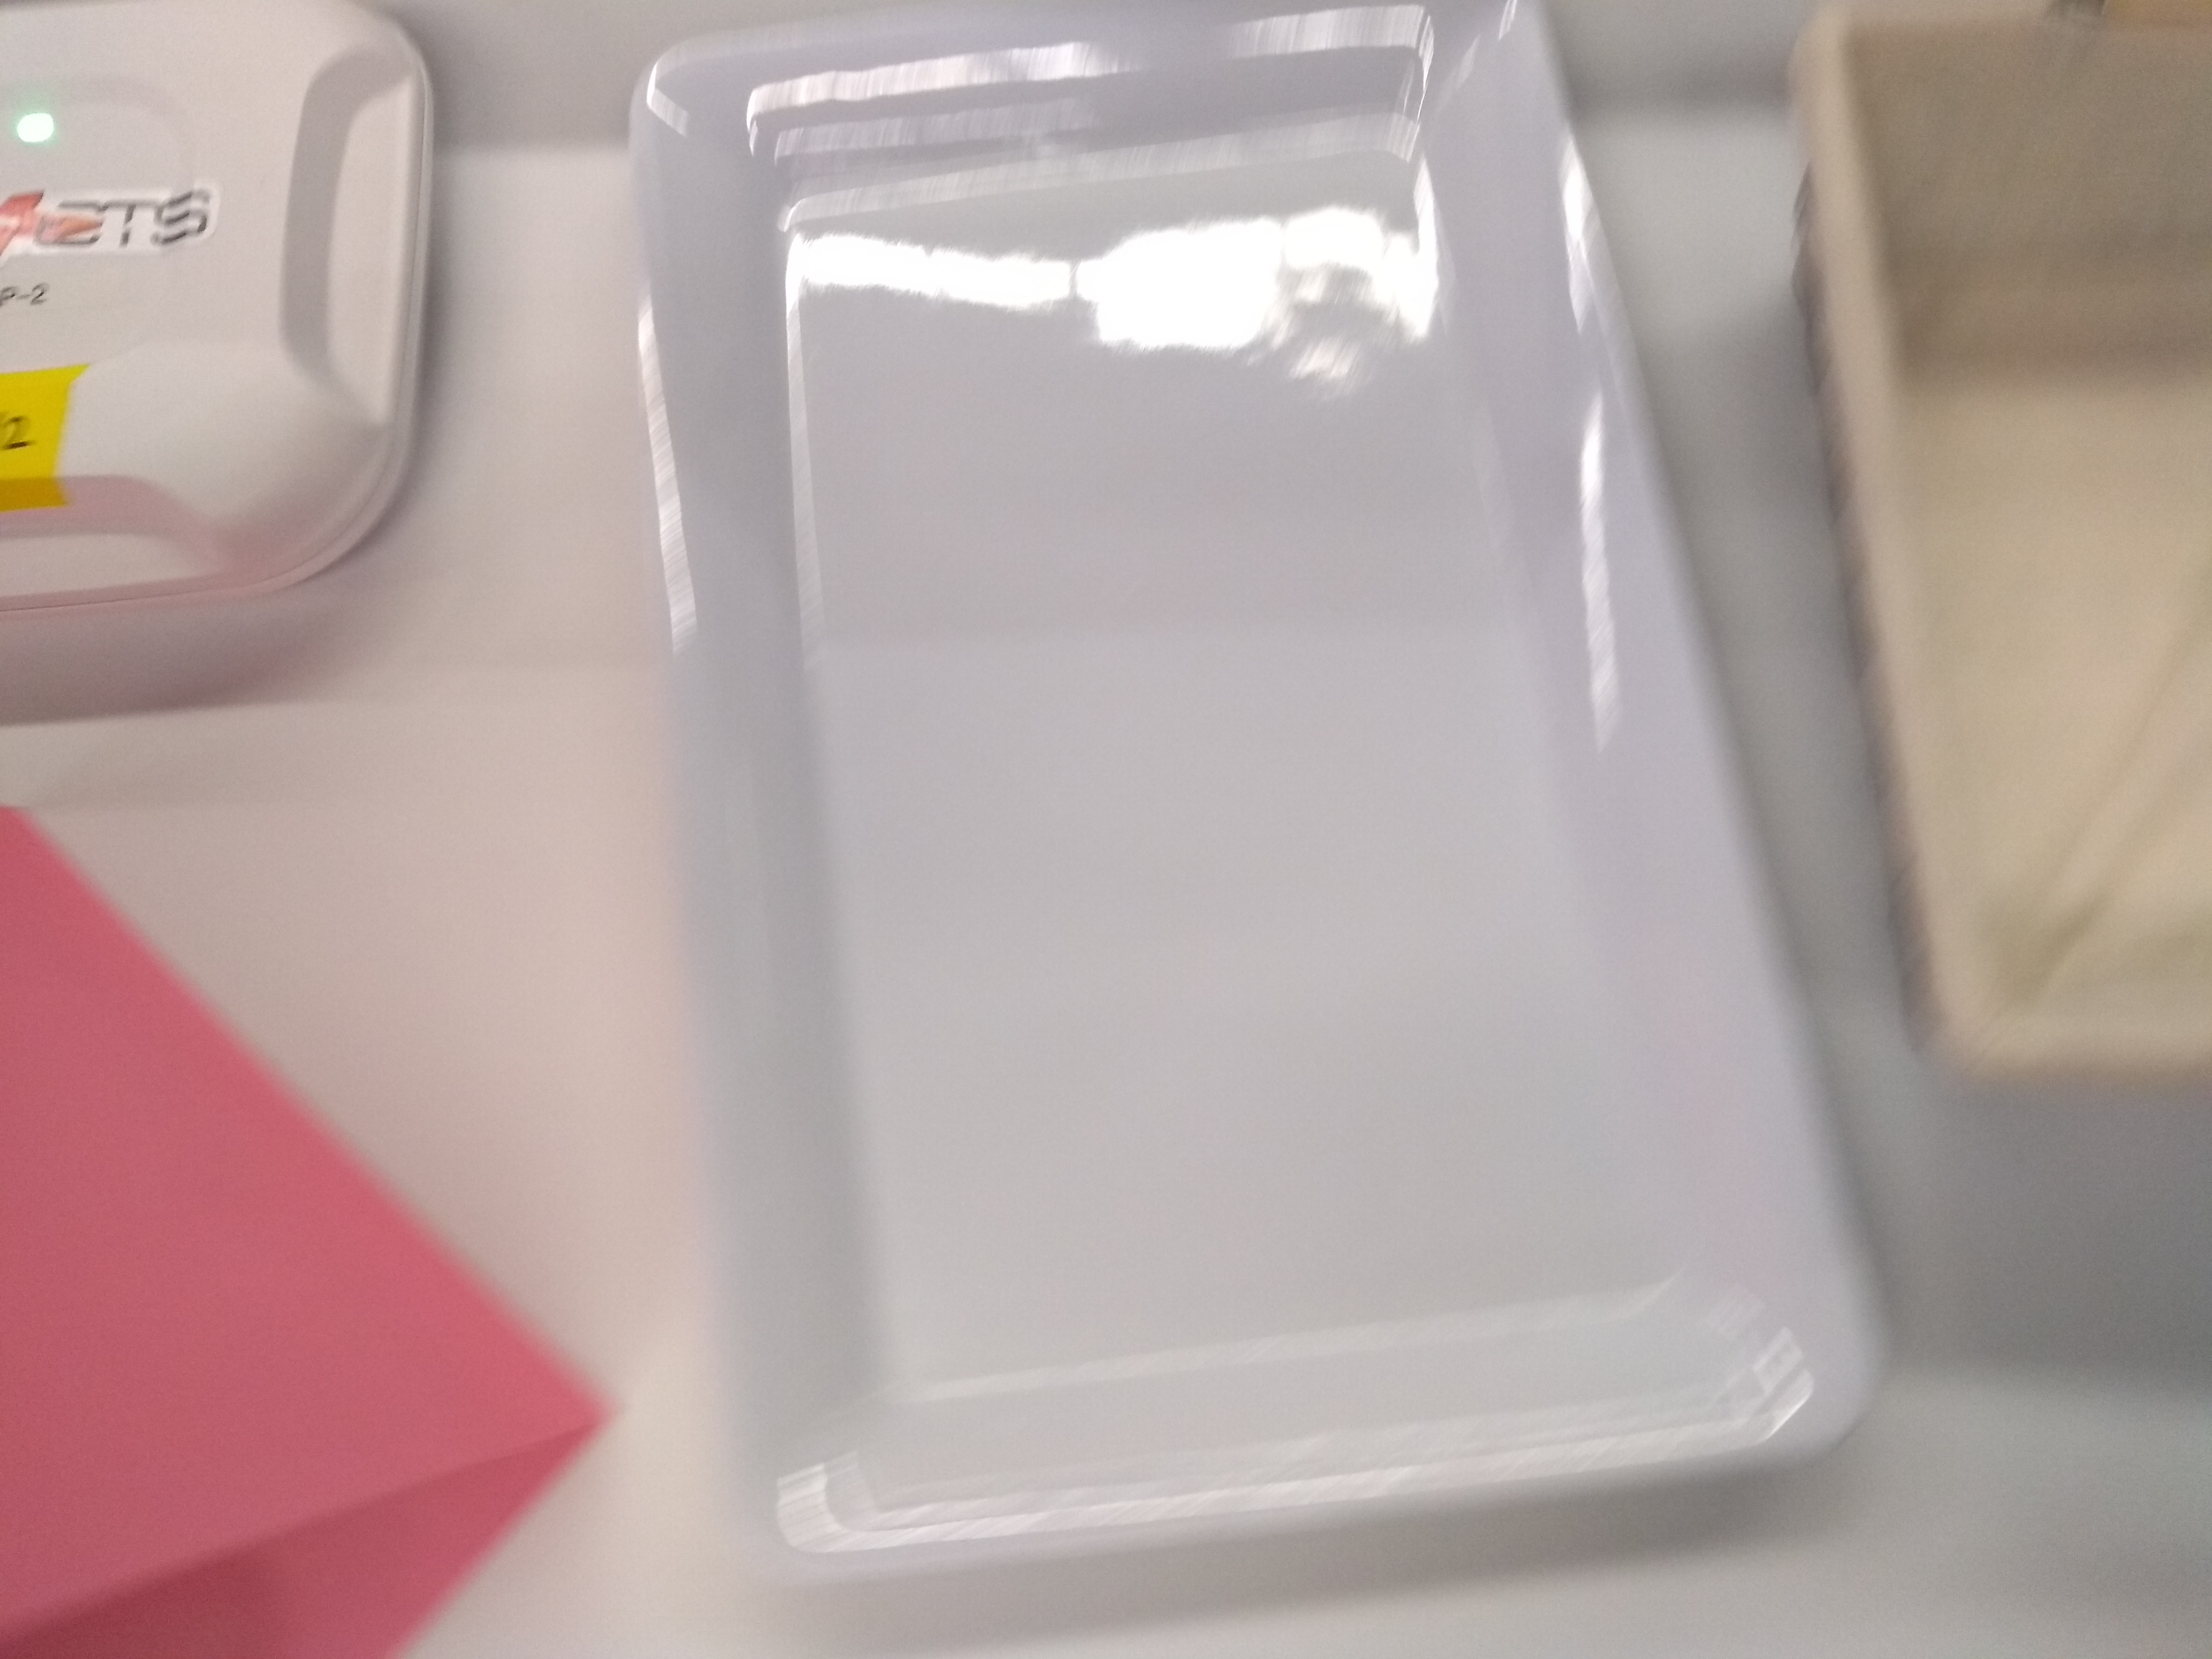basket: (1794, 2, 2212, 1110)
help_me_carry_opl: (0, 788, 613, 1650)
tray: (618, 2, 1932, 1565)
